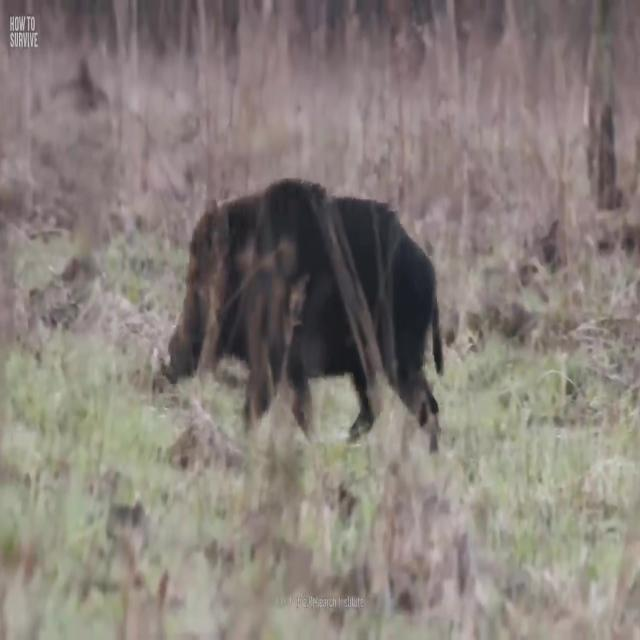pig: (145, 105, 486, 476)
